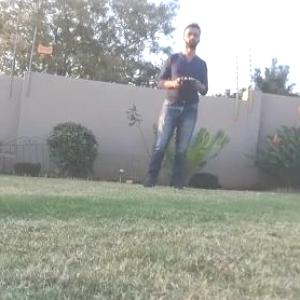follow: (136, 18, 213, 194)
